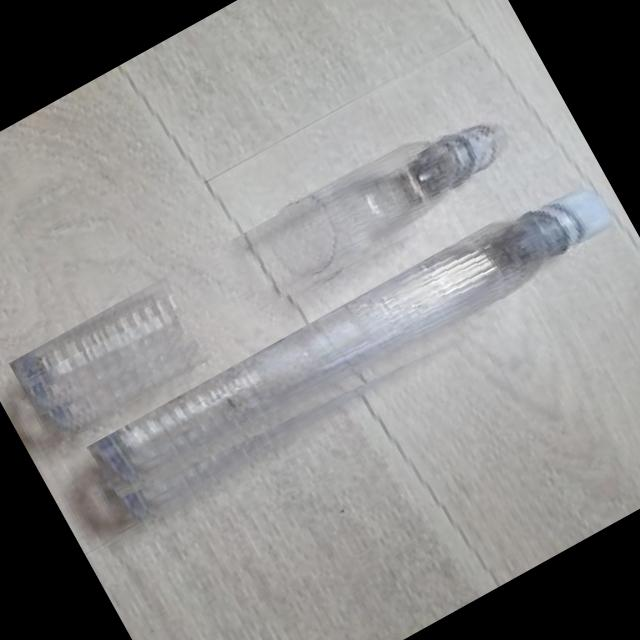plastic bottle: (82, 170, 634, 536), (8, 100, 527, 442)
